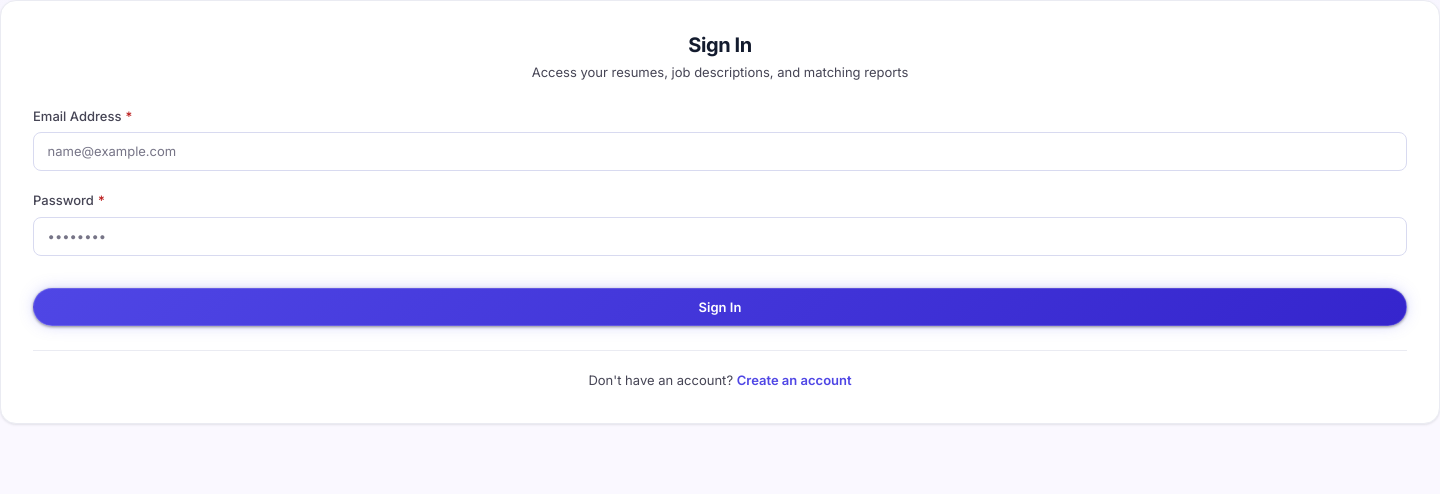
Test: Authentication & Route Protection Suite › 1. Login form rendering and validation: detects missing and malformed inputs
Expected: the field labelled "Email Address*" is shown, [33,132,1407,171]
Expected: the password field labelled "Password*" is shown, [33,217,1407,256]
# Submit empty form
Click the button with test id "login-submit-btn".
click(720, 307)  # box [33,288,1407,326]
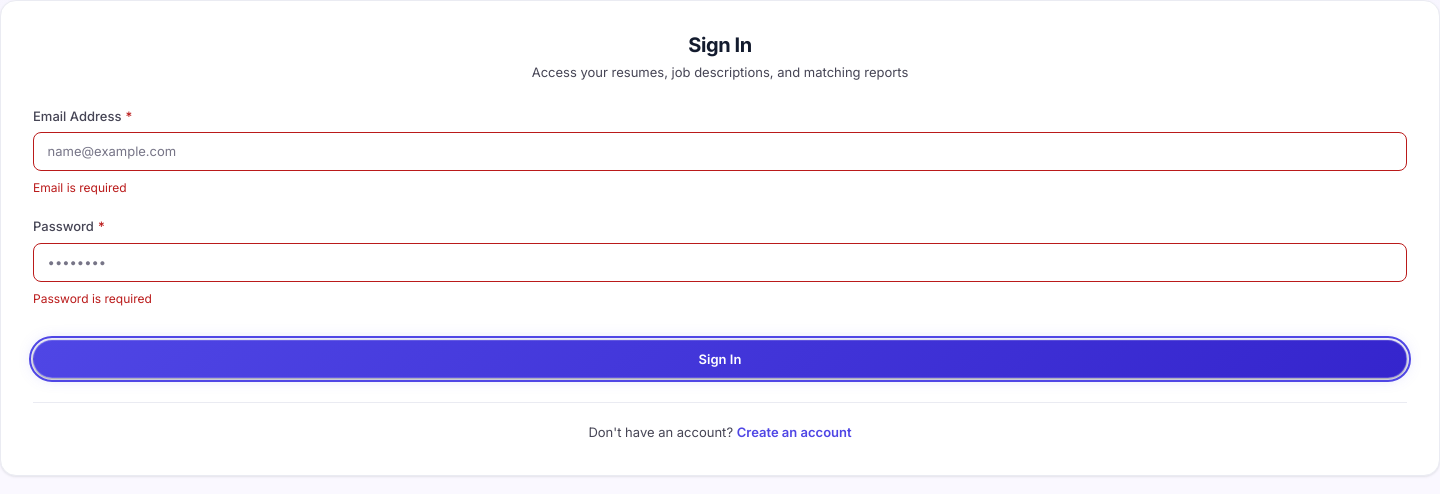
Result: the text "Email is required" is shown at [33,180,127,195]
Result: the text "Password is required" is shown at [33,291,152,306]
# Type invalid email
Type "invalid-email" into the field labelled "Email Address*".
click(720, 152); type("invalid-email")  # box [33,132,1407,171]
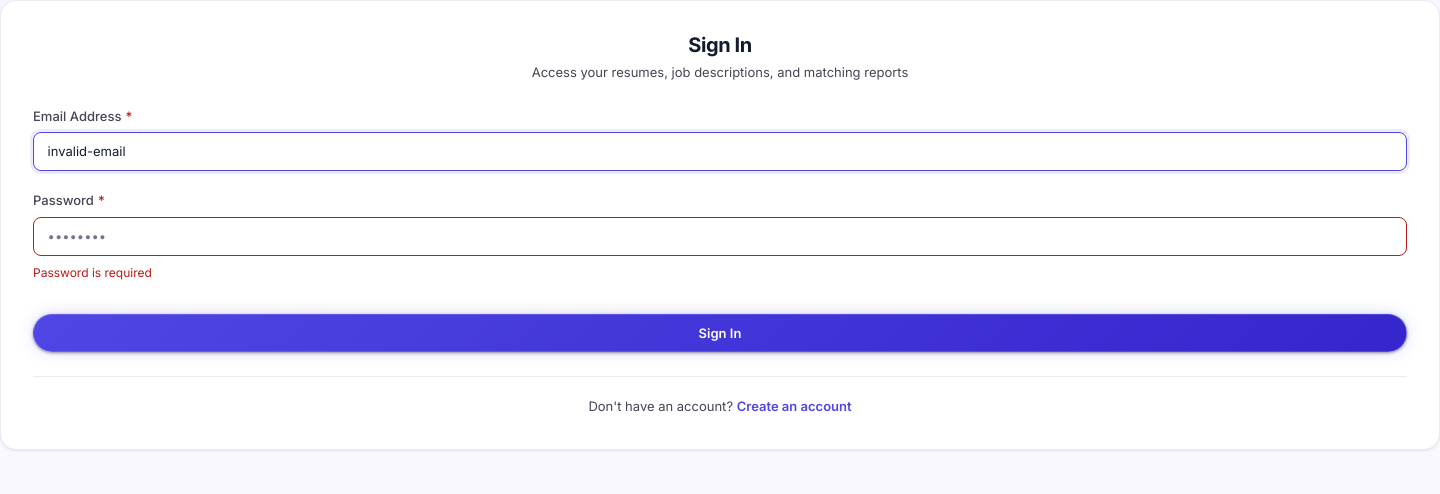
Type "password123" into the password field labelled "Password*".
click(720, 236); type("password123")  # box [33,217,1407,256]
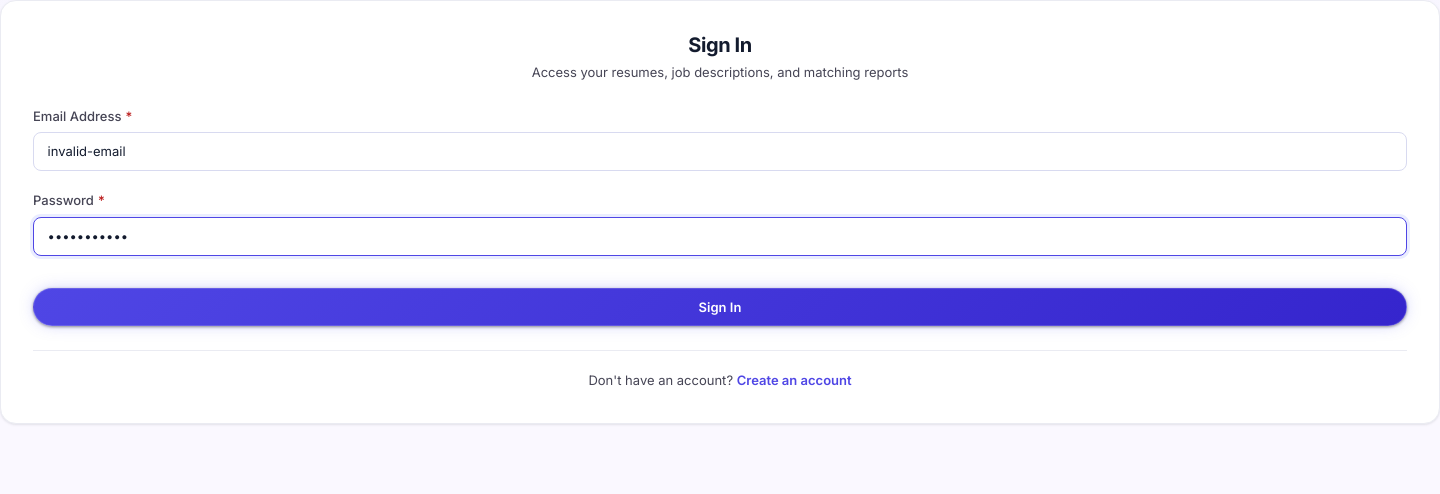
Click the button with test id "login-submit-btn".
click(720, 307)  # box [33,288,1407,326]
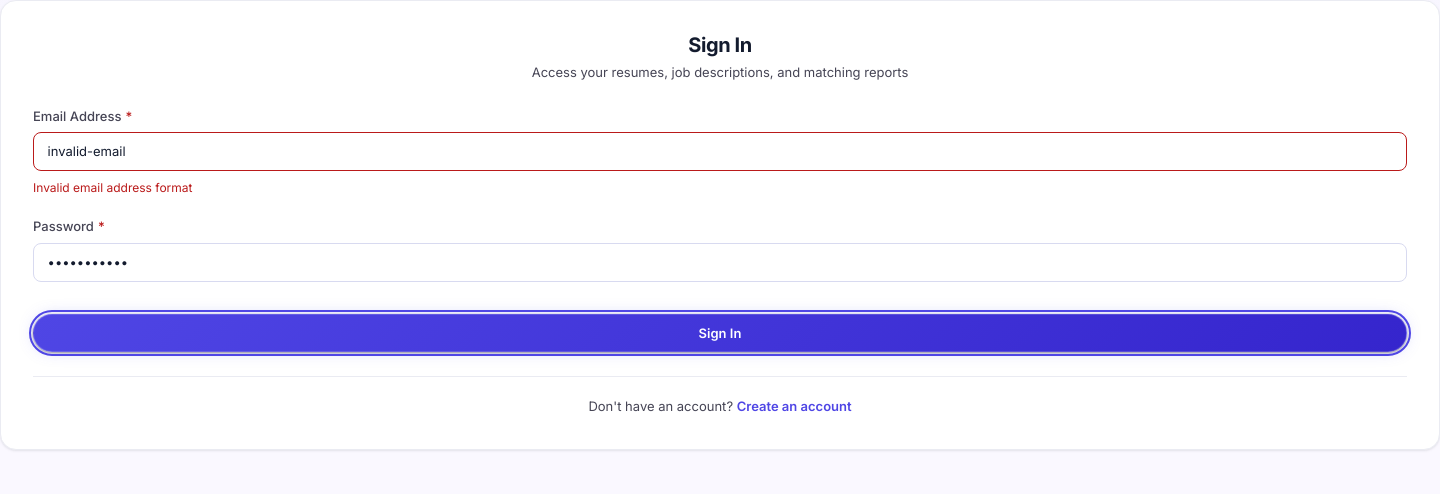
Result: the text "Invalid email address format" is shown at [33,180,192,195]
